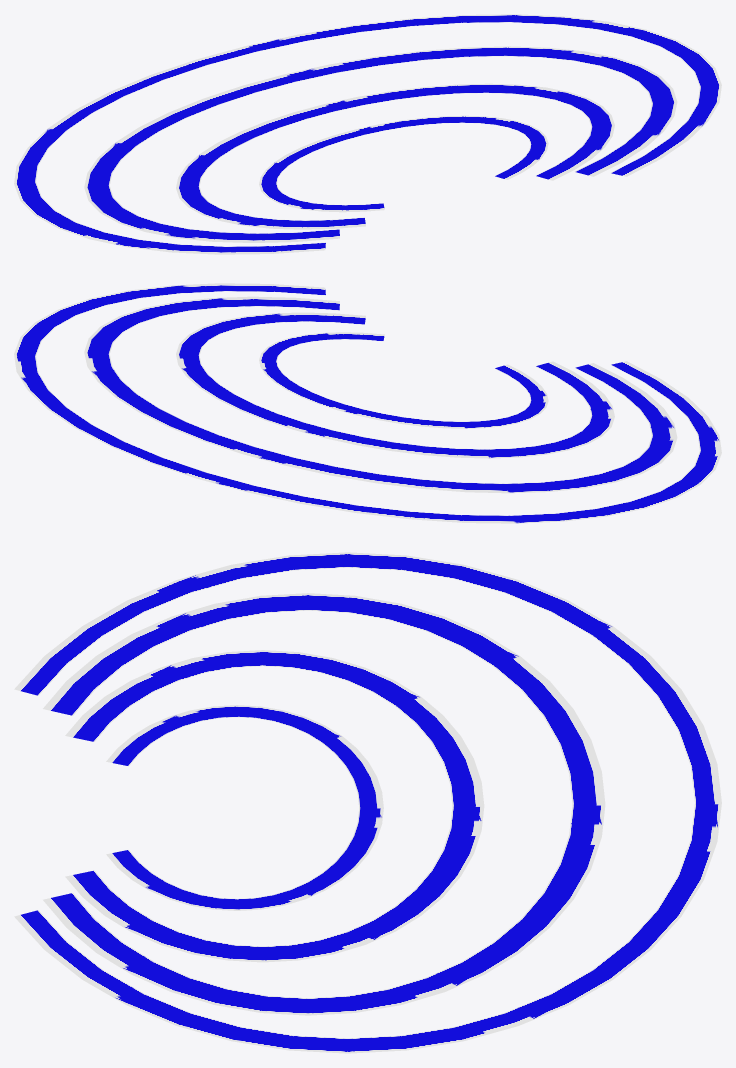
File: magnetLines_v02.fbx
3 views of the same model, one above another, from view 1: azimuth 30°, elevation 25°; view 2: azimuth 150°, elevation 25°; view 3: azimuth 270°, elevation 25° (orthographic). The views are drawn at different scales.
Parts seen in each view (by area): view 1: pPipe1, pPipe2, pPipe3, pPipe4; view 2: pPipe1, pPipe2, pPipe3, pPipe4; view 3: pPipe1, pPipe2, pPipe3, pPipe4.
Part boxes in pixels (x1,y1,x2,y2): pPipe1: [14, 14, 721, 254]; pPipe2: [84, 46, 677, 242]; pPipe3: [176, 83, 614, 229]; pPipe4: [259, 115, 548, 212]; pPipe1: [14, 283, 721, 523]; pPipe2: [84, 296, 677, 493]; pPipe3: [176, 312, 614, 458]; pPipe4: [259, 332, 548, 428]; pPipe1: [14, 552, 721, 1053]; pPipe2: [43, 593, 605, 1015]; pPipe3: [65, 650, 484, 962]; pPipe4: [106, 705, 383, 910].
Size of the model in its own units: 11.86 by 0.0559 by 7.08.
Materials: 1 (1 with a texture image).
